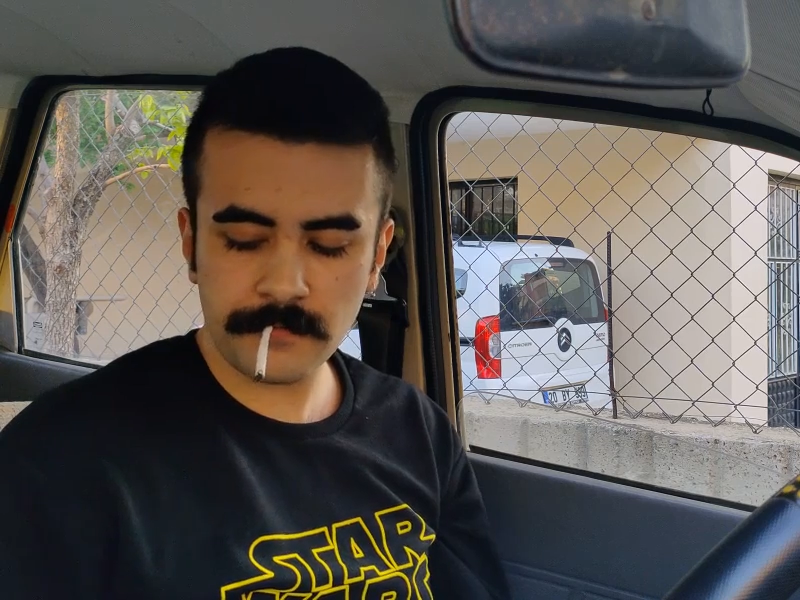sigara: (248, 322, 276, 385)
